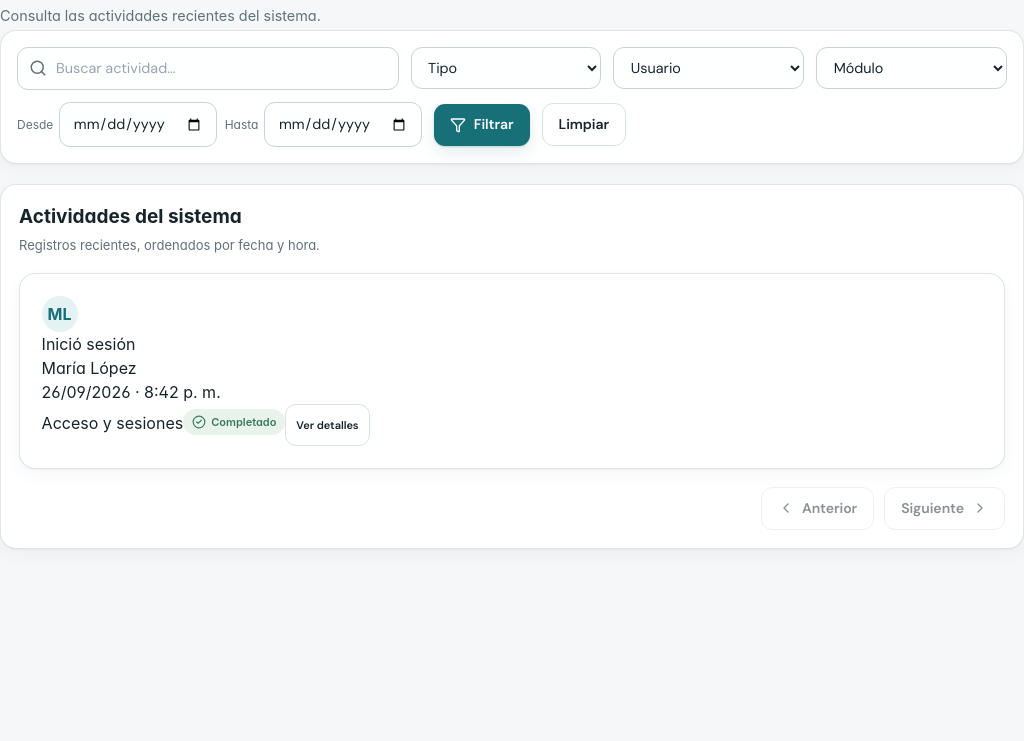
Test: login conserva título, módulo, categoría y resultado en móvil y detalle
Check: the text "Acceso y sesiones" is shown, box [42,413,183,433]
Check: the text "Completado" is shown, box [183,408,285,435]
Click the button "Ver detalles" at (328, 425), box [285,404,370,446]
(page scrolled)
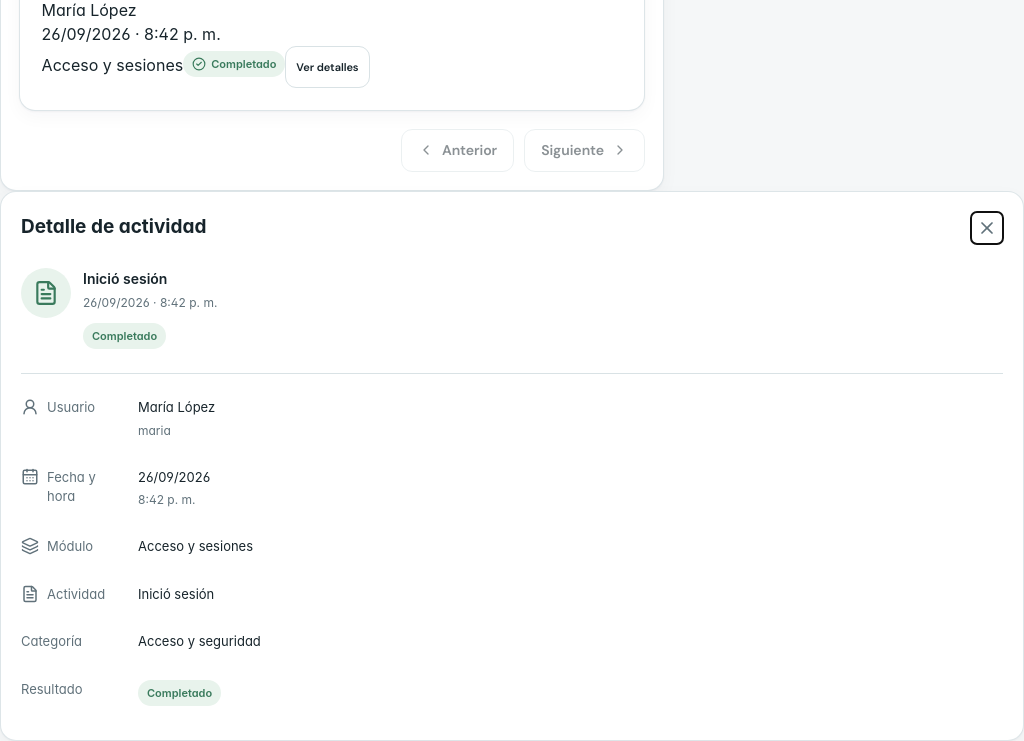
Check: the heading "Inició sesión" below "Detalle de actividad" is shown, box [83,270,167,286]
Check: the text "Acceso y sesiones" next to "Módulo" is shown, box [138,538,253,554]
Check: the text "Acceso y seguridad" is shown, box [138,633,261,649]
